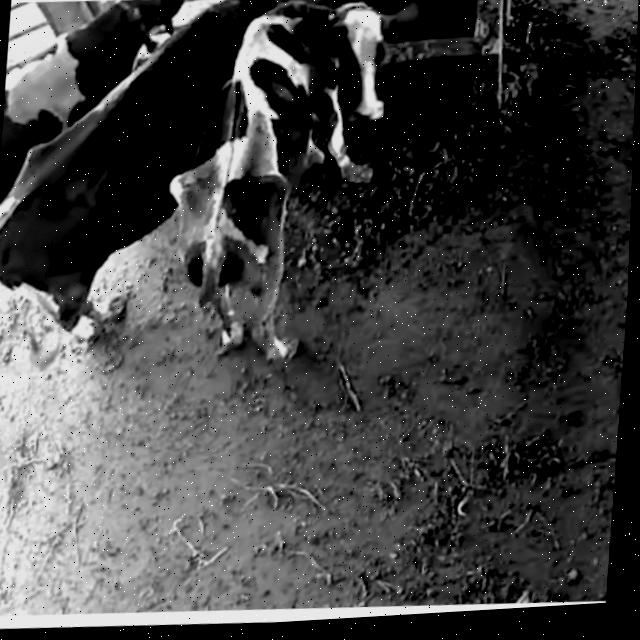drink: (189, 0, 340, 59)
